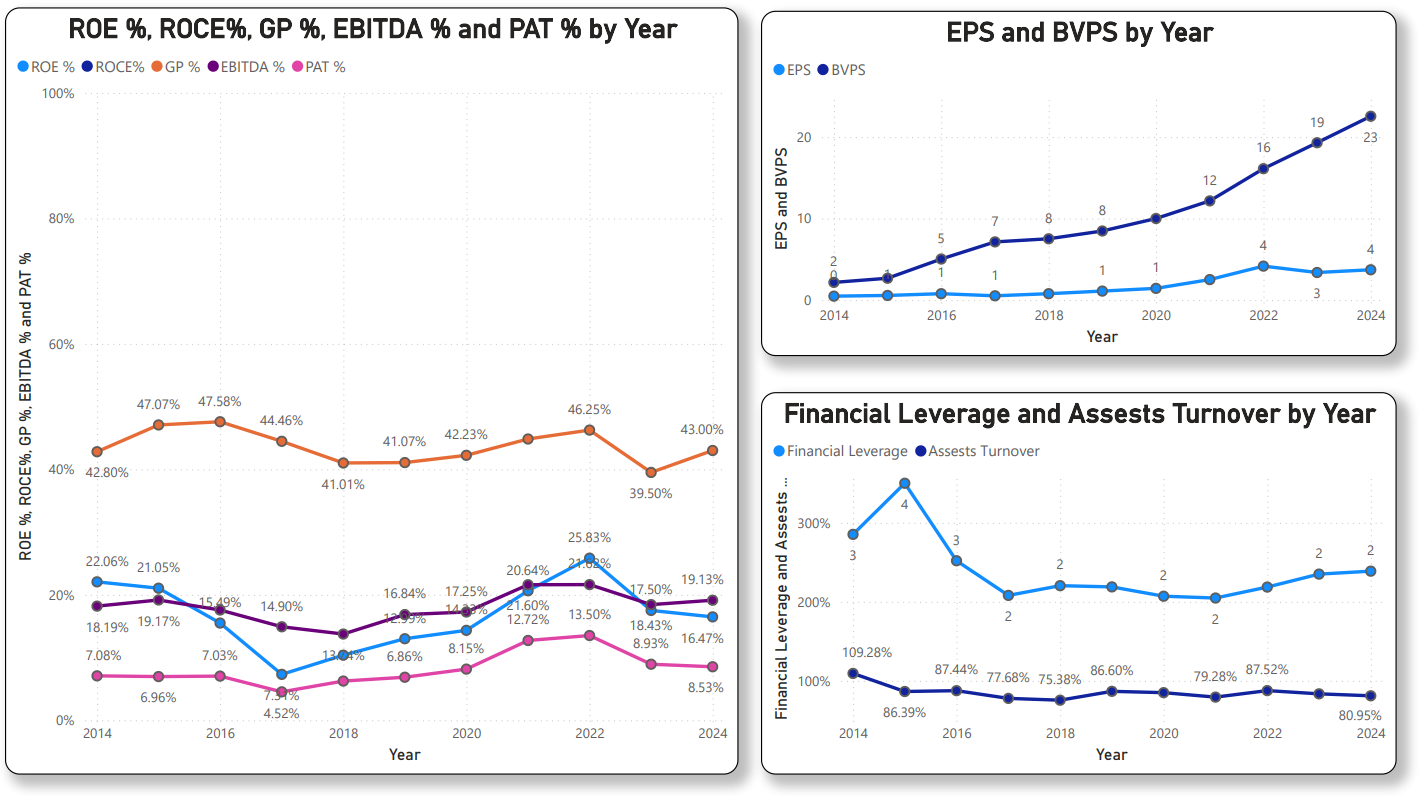

This screenshot's page, from the dashboard's own definition file:
{"tool":"powerbi","page":{"name":"Ratio Analysis","canvas":[1280,720],"ordinal":8},"visuals":[{"type":"lineChart","fields":{"Category":["Date Dim.Date.Variation.Date Hierarchy.Year"],"Y":["P&L Fact.ROE %","P&L Fact.ROCE%","P&L Fact.GP %","P&L Fact.EBITDA %","P&L Fact.PAT %"]},"box":[15.7,19.3,652.7,681.6],"z":0},{"type":"lineChart","fields":{"Category":["Date Dim.Date.Variation.Date Hierarchy.Year"],"Y":["P&L Fact.EPS","P&L Fact.BVPS"]},"box":[687.7,21.7,565.8,307.6],"z":1000},{"type":"lineChart","fields":{"Category":["Date Dim.Date.Variation.Date Hierarchy.Year"],"Y":["P&L Fact.Financial Leverage","BS Fact.Assests Turnover"]},"box":[687.7,360.7,565.8,340.2],"z":2000}]}

Visuals, with their boxes in screenshot pixels (x1, y1, x2, y2), scaled from the page's 1280x720 canvas onto the 1419x805 screenshot:
lineChart - Date Dim.Date.Variation.Date Hierarchy.Year x P&L Fact.ROE %: <box>17,22,741,784</box>
lineChart - Date Dim.Date.Variation.Date Hierarchy.Year x P&L Fact.EPS: <box>762,24,1390,368</box>
lineChart - Date Dim.Date.Variation.Date Hierarchy.Year x P&L Fact.Financial Leverage: <box>762,403,1390,784</box>
